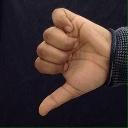hand: (33, 7, 112, 116)
